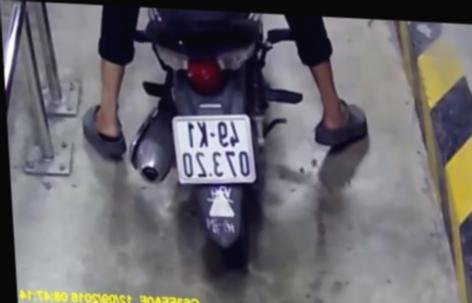License_Plate: (166, 109, 264, 191)
